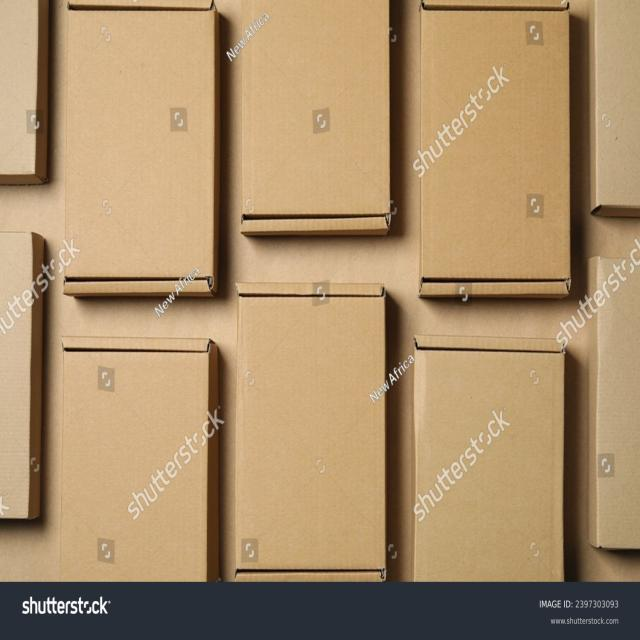BoxFace: (416, 0, 574, 303), (235, 279, 388, 582), (61, 0, 216, 294), (414, 334, 566, 586), (58, 337, 210, 580), (240, 0, 393, 236)
